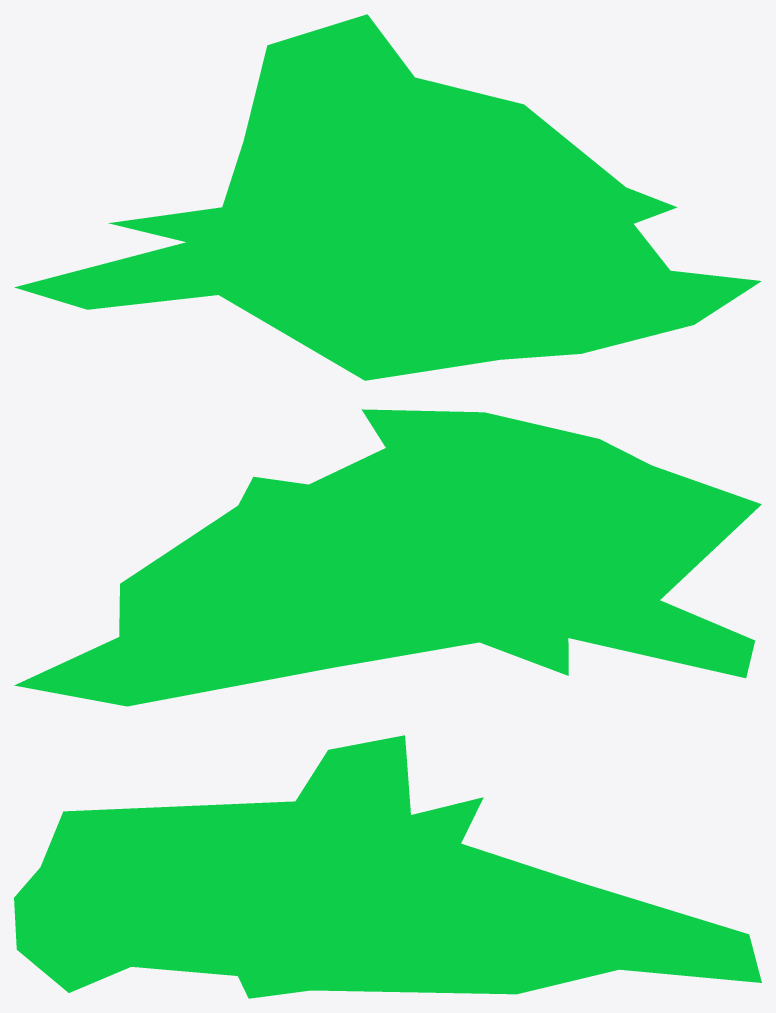
Rendered from board.glb.
The picture shows the model from 3 angles, top to bottom: view 1: azimuth 30°, elevation 25°; view 2: azimuth 150°, elevation 25°; view 3: azimuth 270°, elevation 25°; orthographic projection. The views are drawn at different scales.
Visible parts, largest first — view 1: Aquitaine, The Low Countries, Toulouse, Lorraine, Paris, Burgundy, Normandy, Brittany; view 2: Aquitaine, The Low Countries, Toulouse, Lorraine, Paris, Burgundy, Normandy, Brittany; view 3: Aquitaine, The Low Countries, Toulouse, Lorraine, Paris, Burgundy, Normandy, Brittany.
Boxes of the visible parts, bbox=[...] form: Aquitaine: bbox=[218, 232, 545, 380]; The Low Countries: bbox=[243, 14, 414, 171]; Toulouse: bbox=[446, 261, 761, 359]; Lorraine: bbox=[412, 77, 625, 217]; Paris: bbox=[315, 138, 504, 242]; Burgundy: bbox=[480, 187, 676, 289]; Normandy: bbox=[108, 141, 334, 247]; Brittany: bbox=[14, 242, 238, 309]; Aquitaine: bbox=[423, 465, 761, 615]; The Low Countries: bbox=[14, 607, 360, 706]; Toulouse: bbox=[361, 409, 651, 510]; Lorraine: bbox=[119, 505, 360, 636]; Paris: bbox=[245, 531, 474, 626]; Burgundy: bbox=[238, 448, 458, 534]; Normandy: bbox=[333, 589, 568, 675]; Brittany: bbox=[553, 600, 755, 678]; Aquitaine: bbox=[40, 801, 375, 928]; The Low Countries: bbox=[486, 882, 761, 982]; Toulouse: bbox=[14, 867, 205, 992]; Lorraine: bbox=[309, 934, 618, 994]; Paris: bbox=[274, 870, 503, 940]; Burgundy: bbox=[126, 915, 310, 998]; Normandy: bbox=[360, 797, 577, 891]; Brittany: bbox=[295, 735, 410, 830].
Size of what is drawn, in the model's own units: 12.95 by 0 by 15.53.
